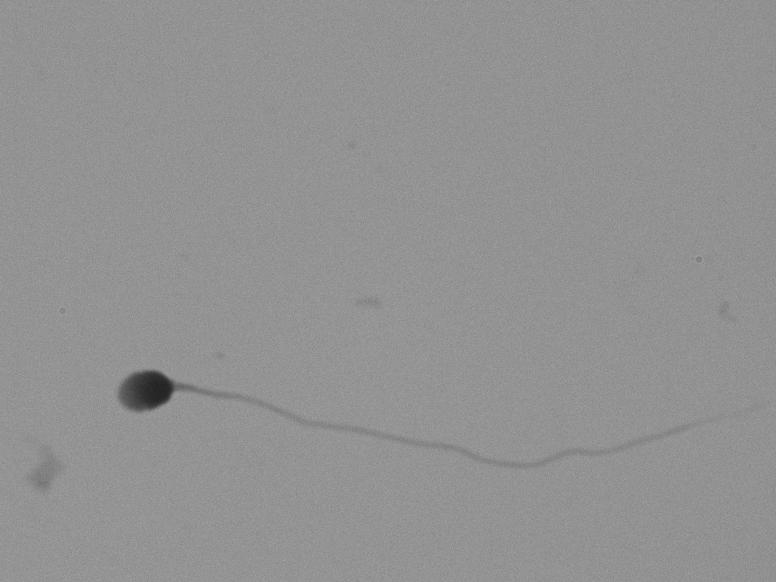Normal: (71, 258, 741, 531)
